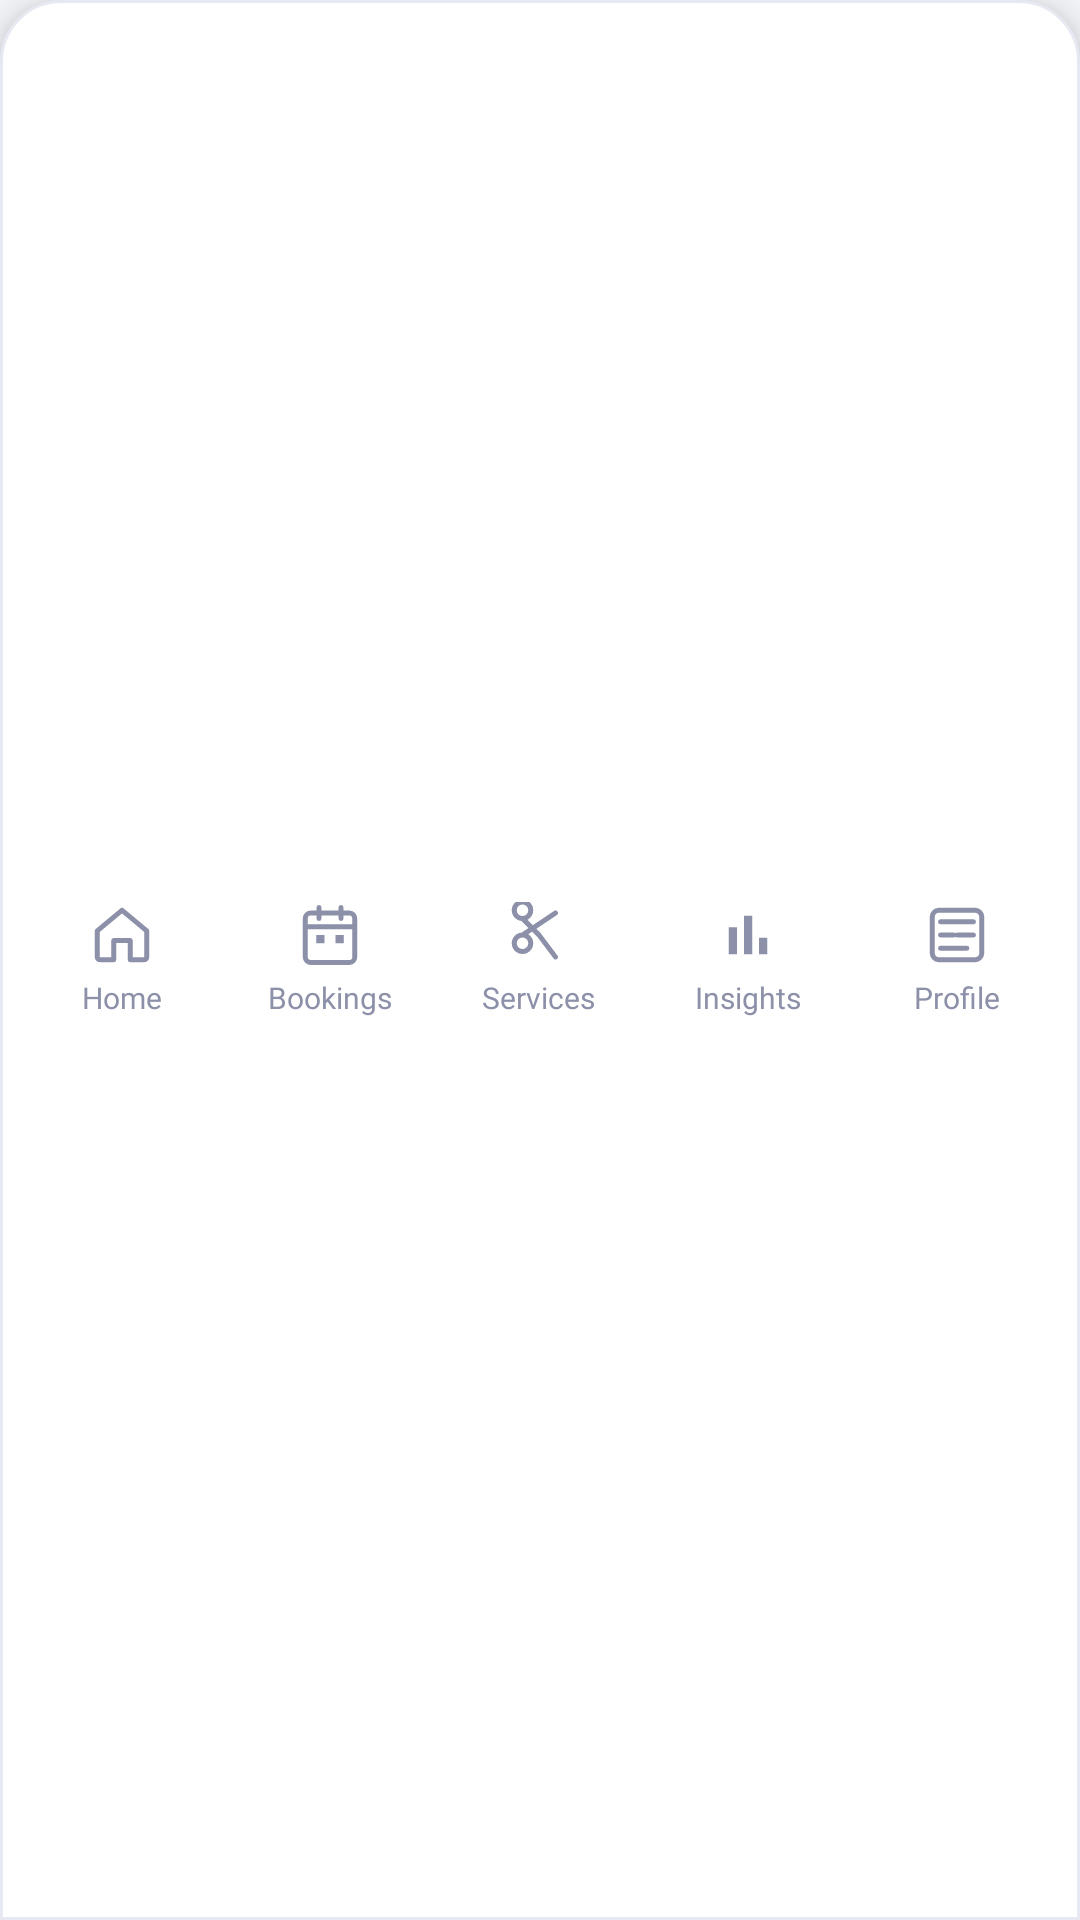

Point at icon controls on the screen. Image size 1080 × 1920, points as (x,y).
scissors: (534,931)
